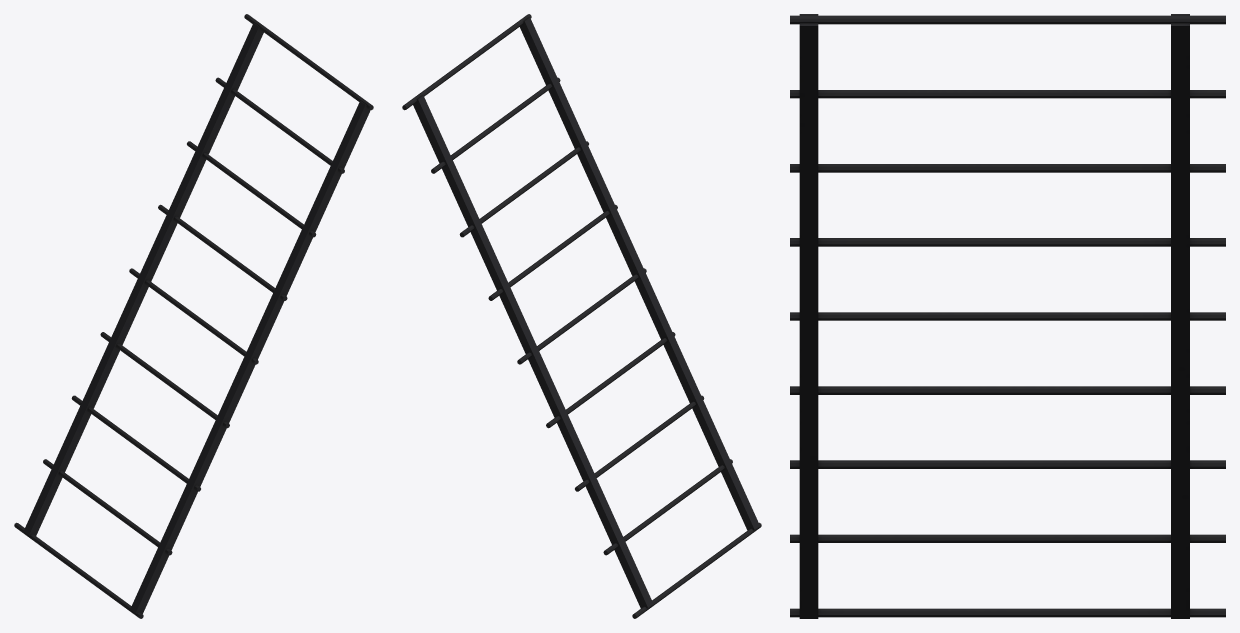
The model's file is gate.obj.
The picture shows the model from 3 angles, left to right: view 1: azimuth 30°, elevation 25°; view 2: azimuth 150°, elevation 25°; view 3: azimuth 270°, elevation 25°; orthographic projection. The views are drawn at different scales.
Parts seen in each view (by area): view 1: gate; view 2: gate; view 3: gate.
Part boxes in pixels (left/top/right/bottom): gate: left=14, top=14, right=373, bottom=618; gate: left=402, top=14, right=761, bottom=618; gate: left=790, top=14, right=1225, bottom=618.
Bounding box in the file's own units: 1.26 × 2.32 × 1.15.
Materials: 1 (1 with a texture image).
